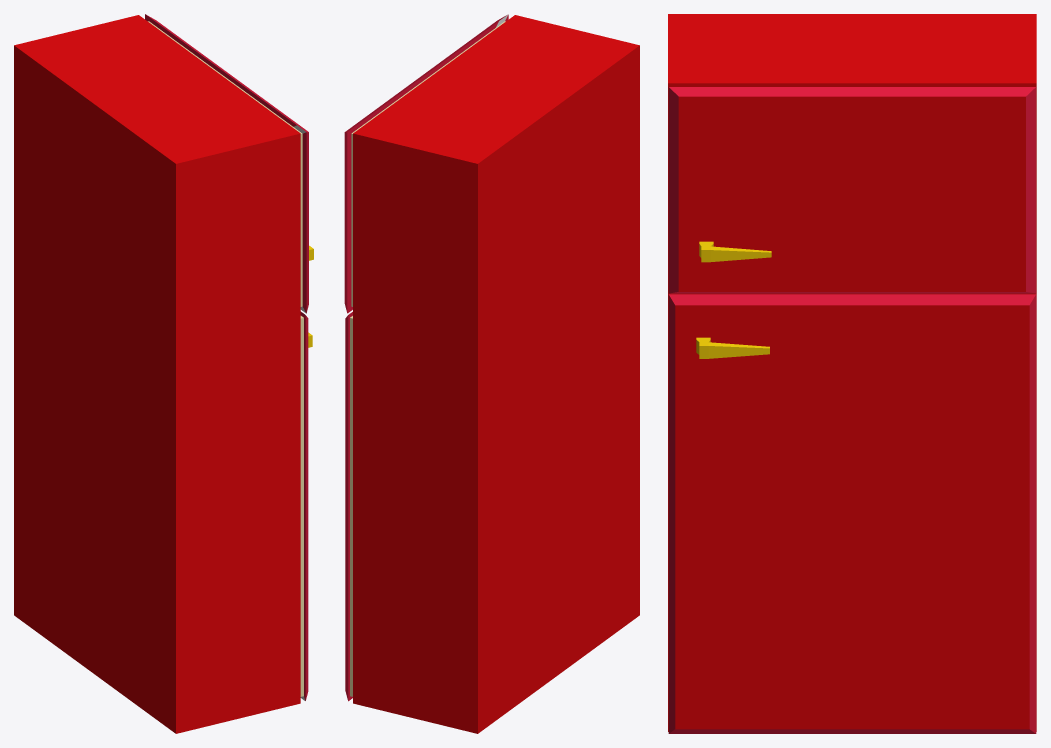
The model's file is Fridge.glb.
3 views of the same model, side by side, from view 1: azimuth 30°, elevation 25°; view 2: azimuth 150°, elevation 25°; view 3: azimuth 270°, elevation 25° (orthographic). The views are drawn at different scales.
Parts seen in each view (by area): view 1: Cube; view 2: Cube; view 3: Cube.
Part boxes in pixels (x1,y1,x2,y2): Cube: (14,14,313,733); Cube: (344,14,639,733); Cube: (668,14,1036,733).
Size of the model in its own units: 1.09 by 3.88 by 2.
